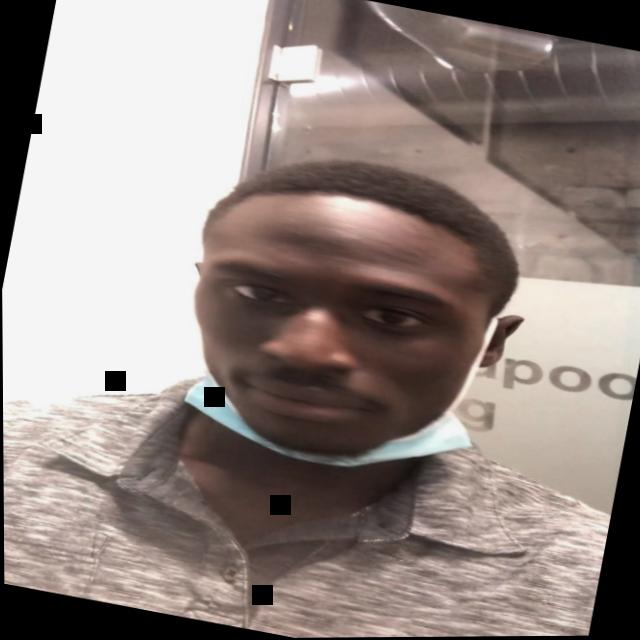NO-Mask: (163, 190, 503, 486)
